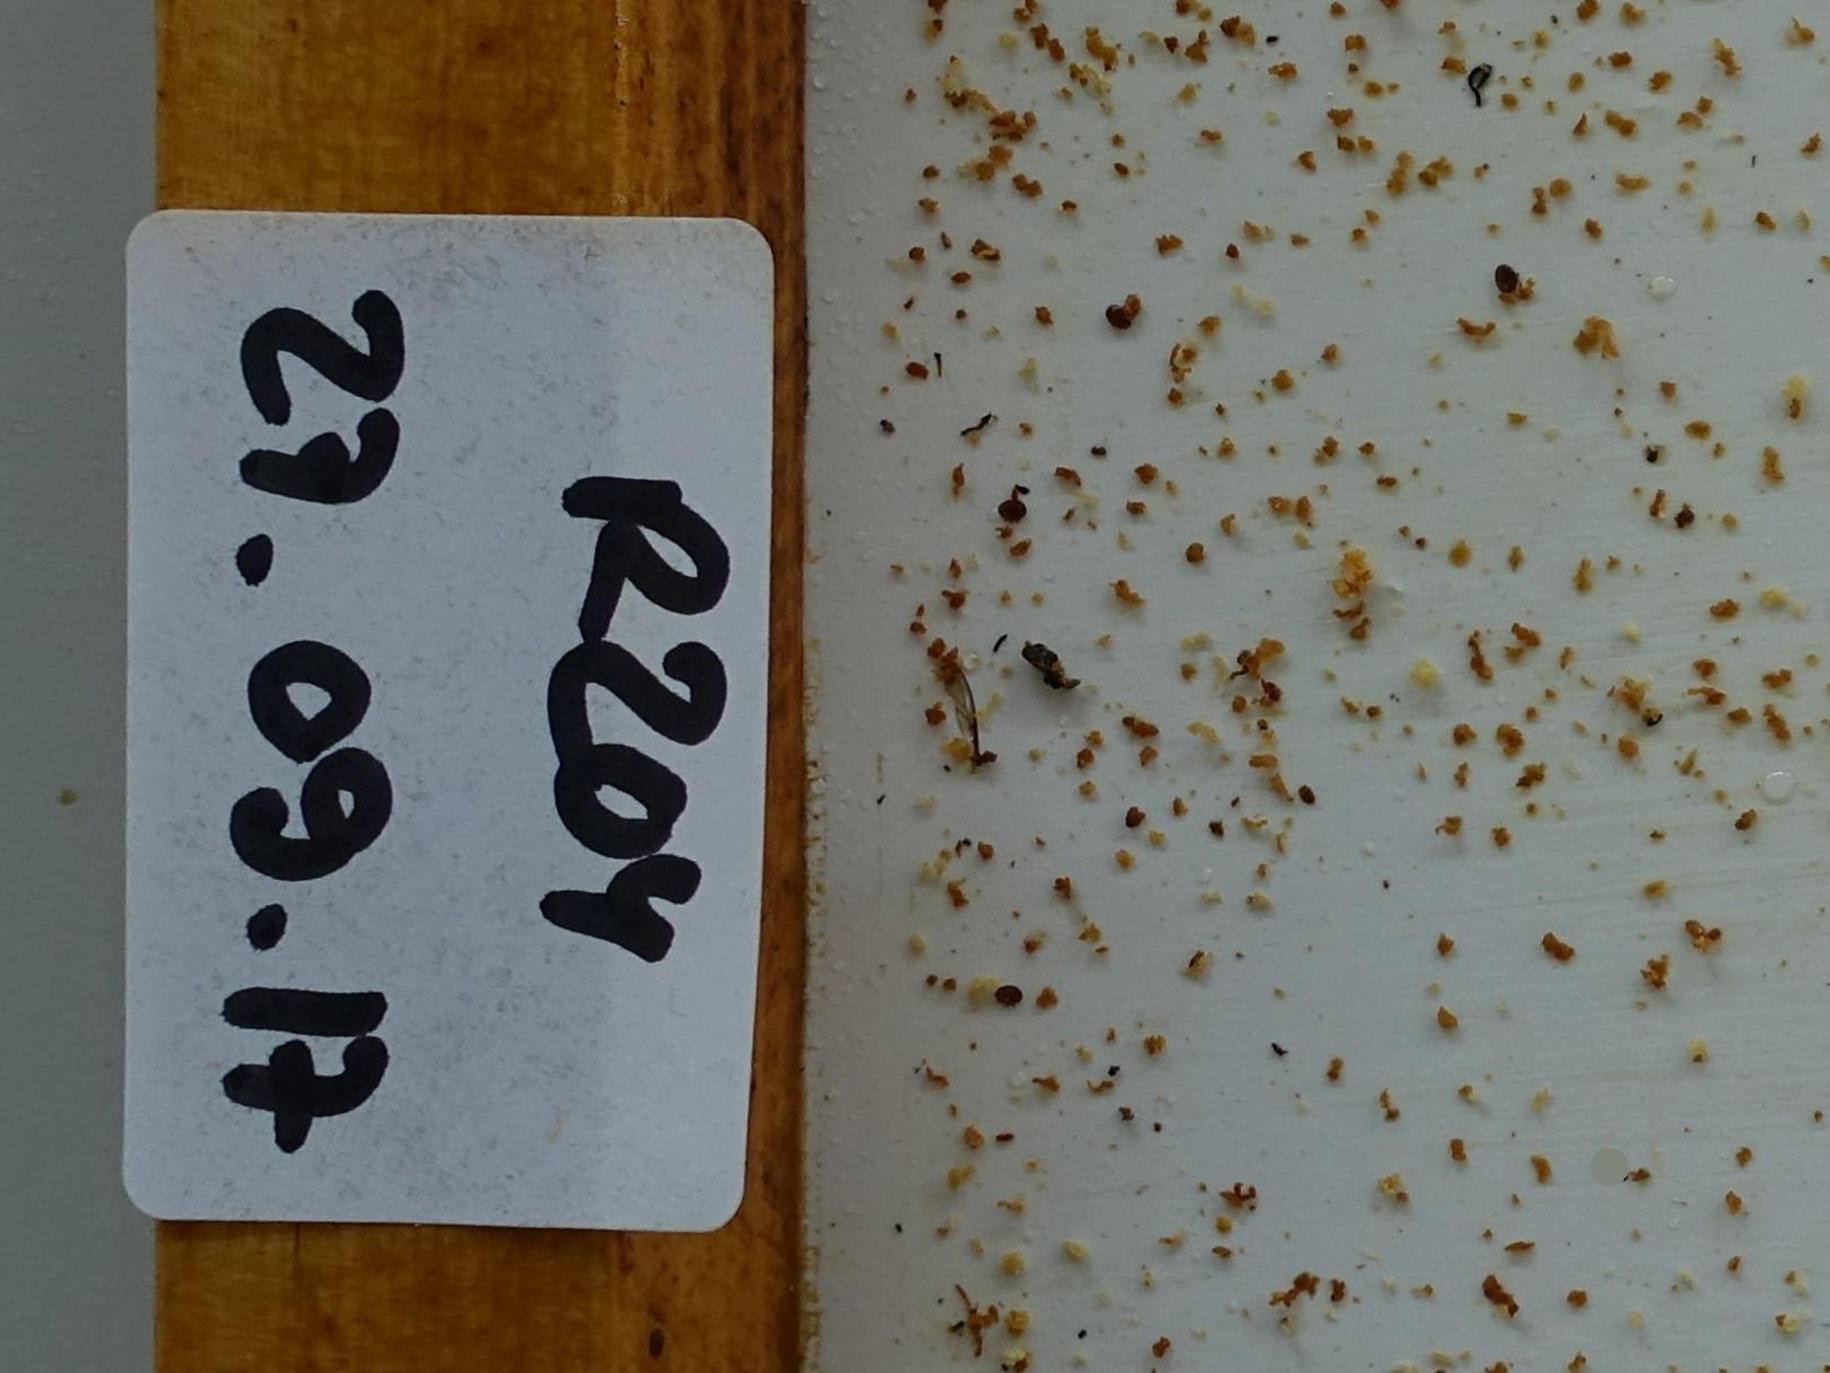Varroa: (1108, 297, 1135, 323), (1488, 265, 1514, 291), (1004, 493, 1024, 521), (1004, 986, 1022, 1011)
